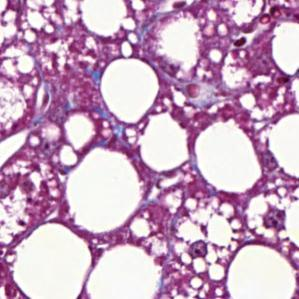steatosis: (63, 148, 142, 229), (98, 57, 162, 125)
